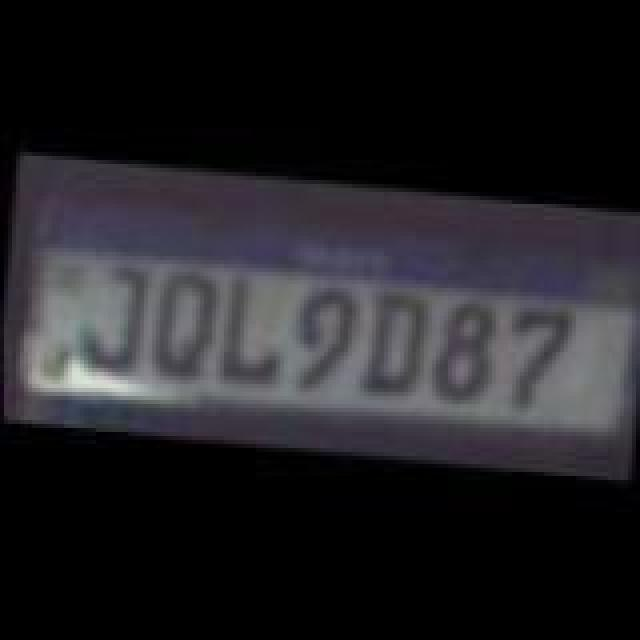7: (502, 302, 574, 418)
8: (432, 290, 500, 406)
9: (284, 276, 360, 392)
D: (360, 280, 428, 400)
J: (70, 264, 142, 376)
L: (214, 266, 286, 382)
Q: (152, 266, 220, 382)
